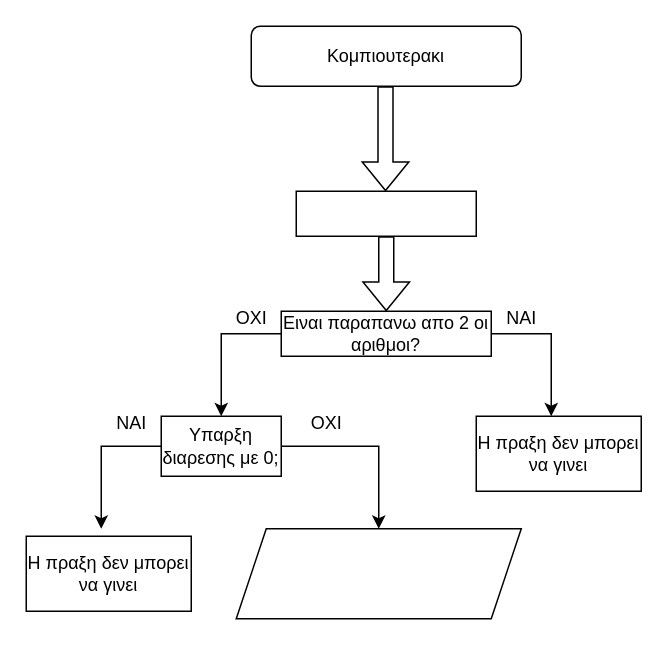
This 668x645 diagram has some shape labels left out. The shapes that lost their labels are listed below. From the top down, each one's box as (x1, y1, x2, y2) in pixels, then its label:
(295, 190, 476, 236): Εισαγωγη αριθμων
(235, 527, 521, 619): Το κομπιουτερακι λειτουργει κανονικα
